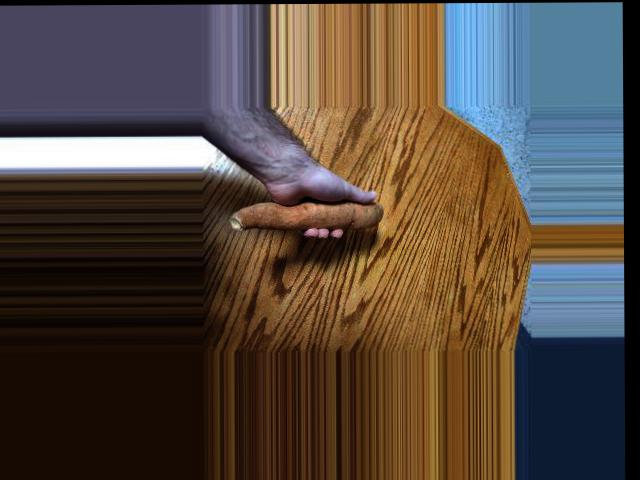sweet_potato: (228, 185, 385, 231)
